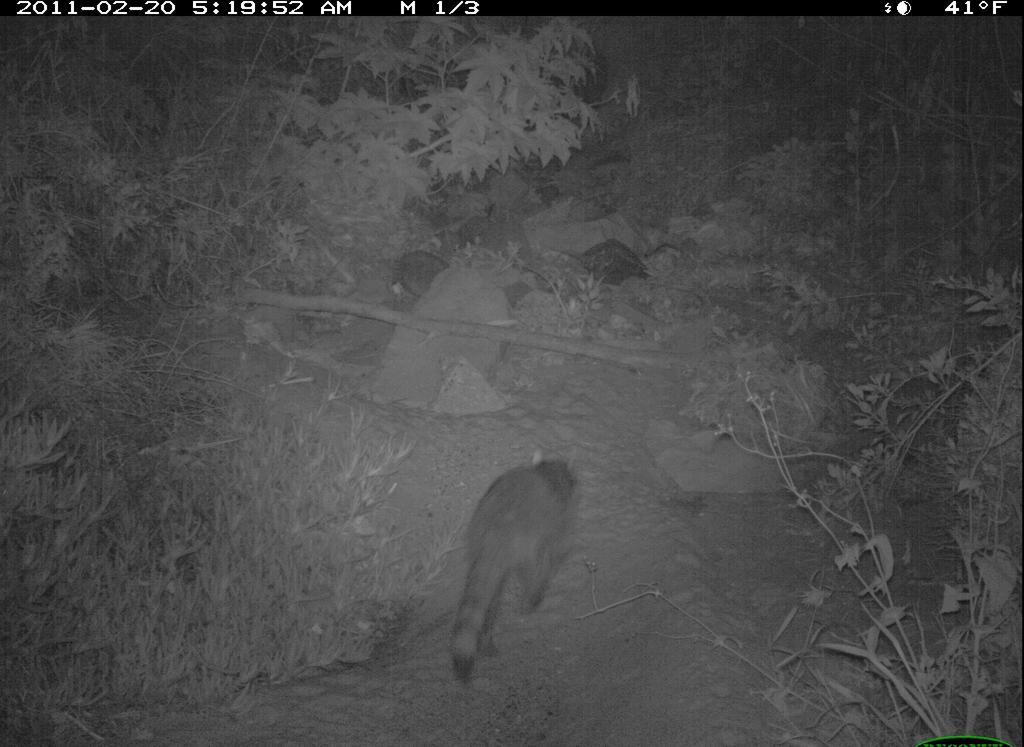raccoon: (441, 456, 589, 683)
